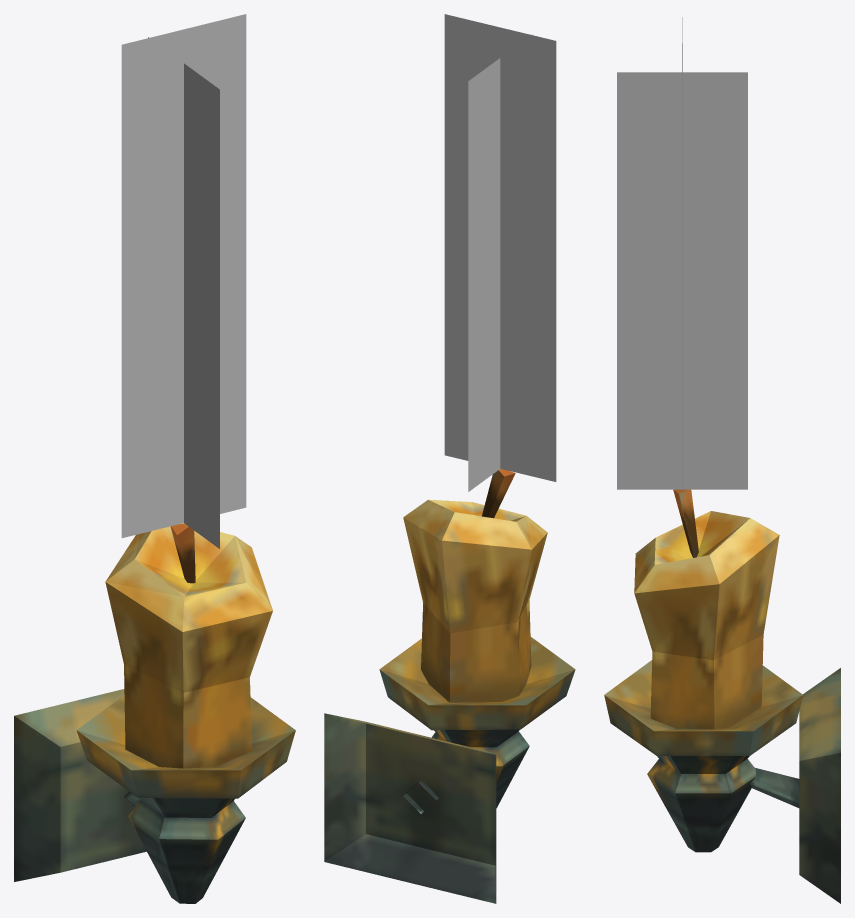
File: crypt_wall_light01.fbx
3 renders of one model, left to right at view 1: azimuth 30°, elevation 25°; view 2: azimuth 150°, elevation 25°; view 3: azimuth 270°, elevation 25°, orthographic. The views are drawn at different scales.
Visible parts, largest first — view 1: obj1.006; view 2: obj1.006; view 3: obj1.006.
Part boxes in pixels (x1,y1,x2,y2): obj1.006: (14, 14, 295, 903); obj1.006: (324, 14, 575, 903); obj1.006: (604, 17, 840, 903).
Bounding box in the file's own units: 0.4535 × 2.02 × 0.5323.
